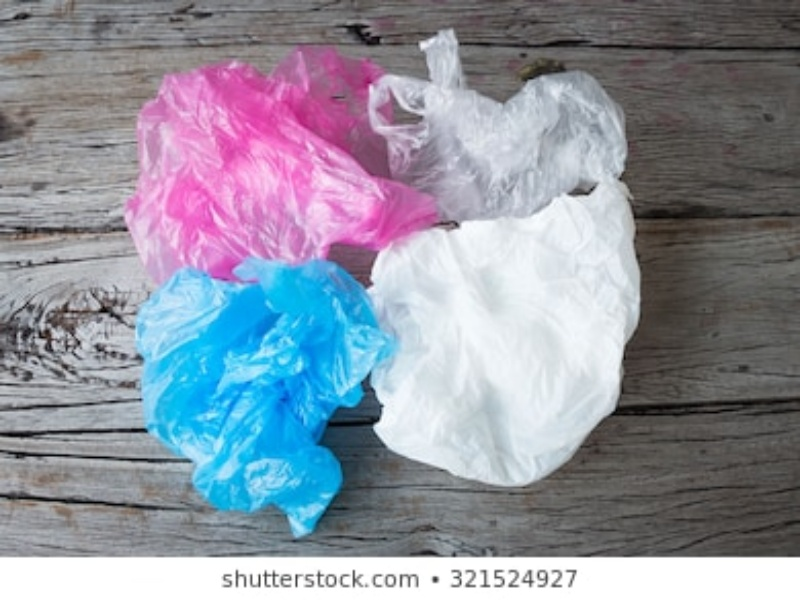plastic-bag: (364, 178, 652, 489), (118, 35, 441, 283), (133, 244, 392, 541), (363, 24, 619, 223)
